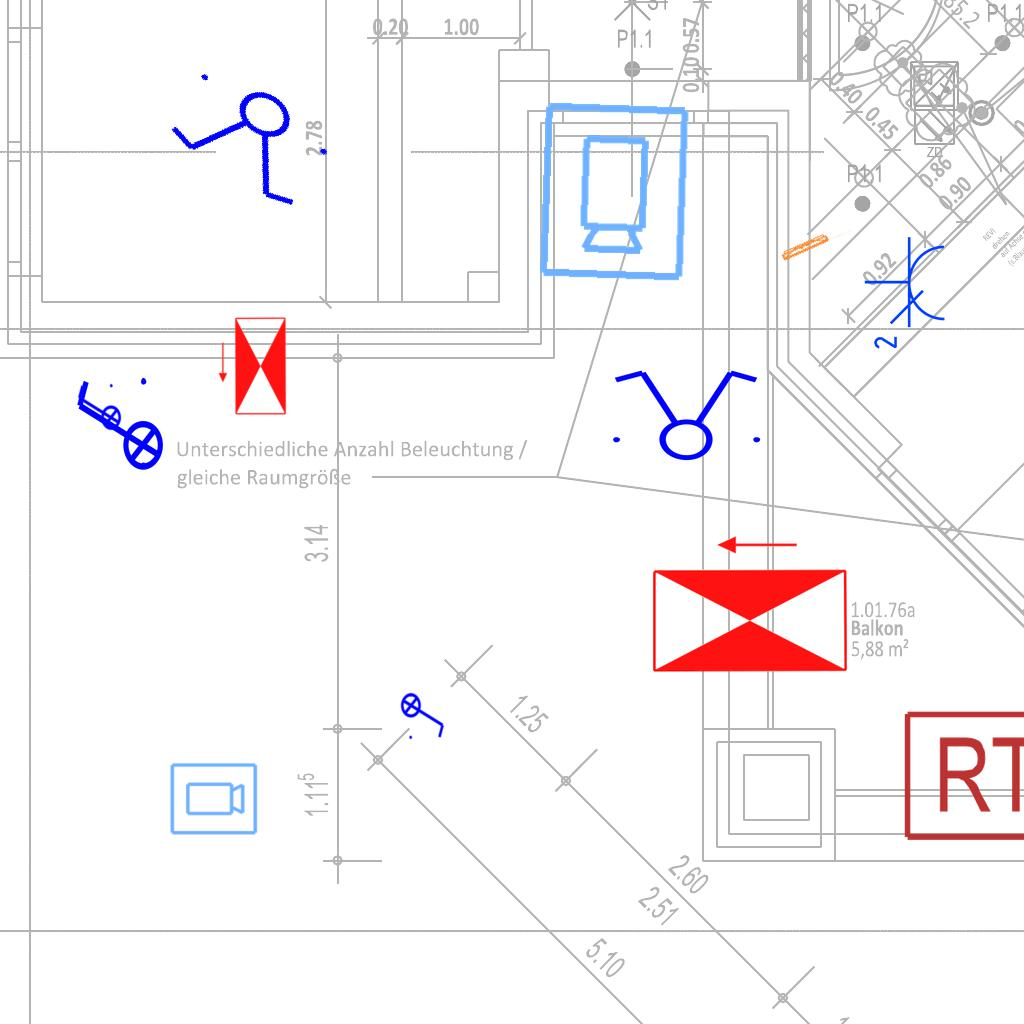Ausschalter_beleuchtet: (69, 372, 165, 484), (400, 686, 448, 742), (74, 381, 122, 437)
Fluchtwegpiktogramm: (646, 531, 854, 678), (216, 314, 289, 418)
KFO_Kamera_mit_Festobjektiv: (532, 97, 694, 285), (168, 761, 259, 838)
Ruf-und_Abstelltaster: (897, 707, 1024, 845)
Schukosteckdose_mehrfach: (863, 235, 951, 356)
Serienschalter: (155, 51, 349, 223), (601, 366, 769, 462)
Sicherheitsleuchte_Wandeinbau: (777, 219, 855, 264)
